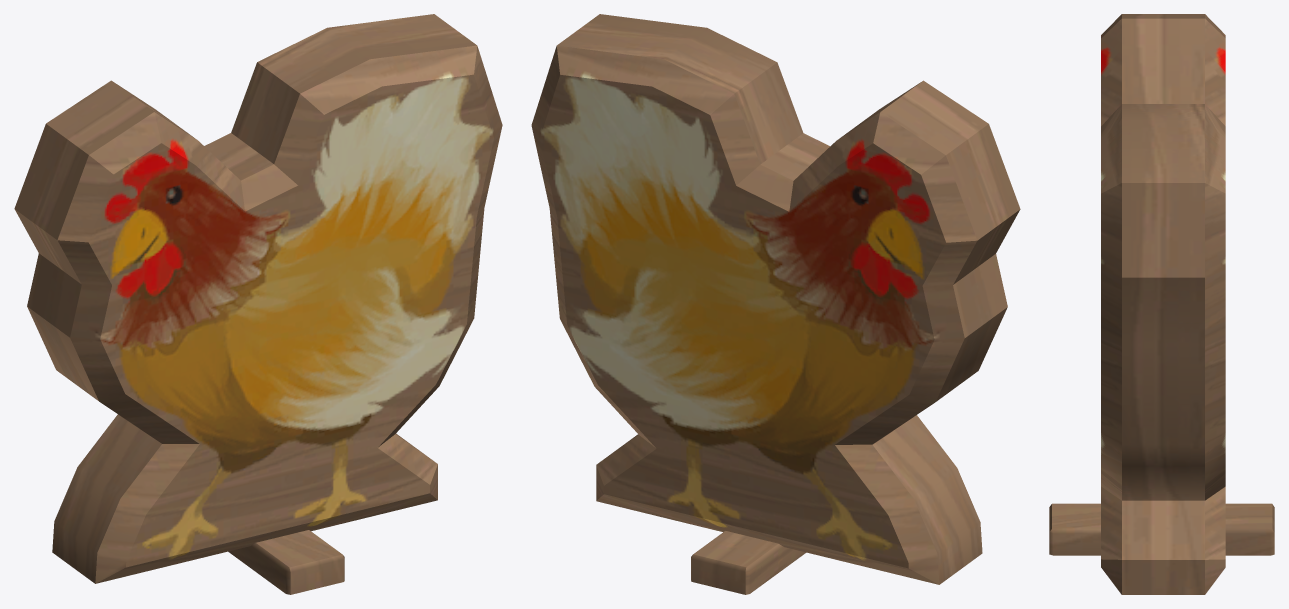
Rendered from chicken cutout.glb.
3 renders of one model, left to right at view 1: azimuth 30°, elevation 25°; view 2: azimuth 150°, elevation 25°; view 3: azimuth 270°, elevation 25°, orthographic. The views are drawn at different scales.
Parts seen in each view (by area): view 1: Standee_Chicken_LOD0; view 2: Standee_Chicken_LOD0; view 3: Standee_Chicken_LOD0.
Part boxes in pixels (x1,y1,x2,y2): Standee_Chicken_LOD0: [14, 14, 502, 594]; Standee_Chicken_LOD0: [531, 14, 1020, 594]; Standee_Chicken_LOD0: [1049, 14, 1274, 594].
Bounding box in the file's own units: 0.4835 × 0.4978 × 0.2191.
Materials: 1 (1 with a texture image).
